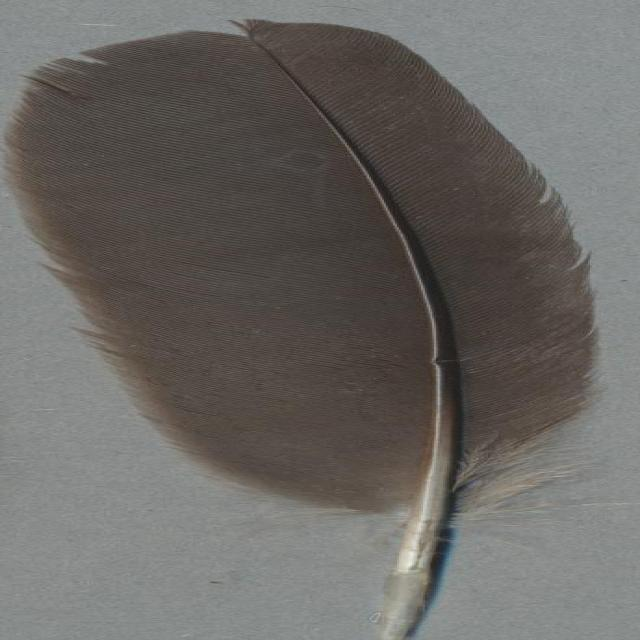feather: (0, 16, 617, 640)
